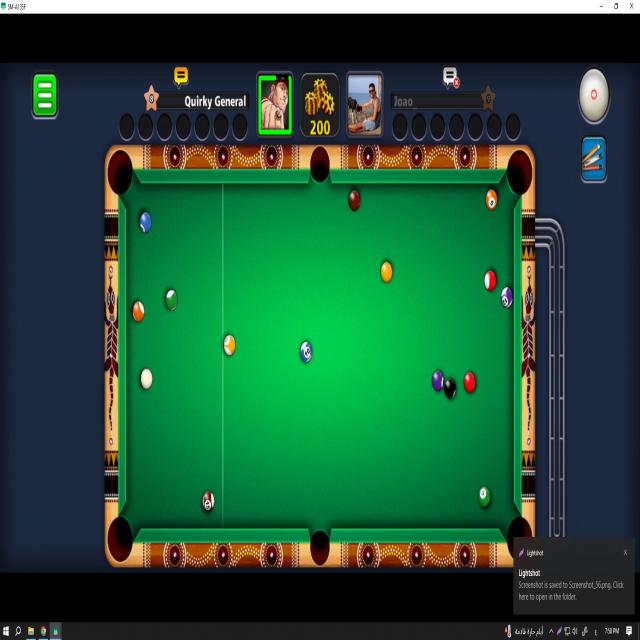object_ball: (165, 289, 178, 311), (300, 342, 312, 362), (501, 287, 512, 308), (381, 262, 392, 283), (349, 190, 360, 211), (224, 335, 235, 356), (464, 372, 475, 393), (444, 378, 455, 399), (133, 302, 144, 322), (486, 190, 497, 210), (432, 371, 443, 391), (485, 271, 496, 291), (203, 491, 214, 511), (140, 213, 151, 232), (479, 487, 489, 507)
white_cue_ball: (141, 368, 152, 389)
